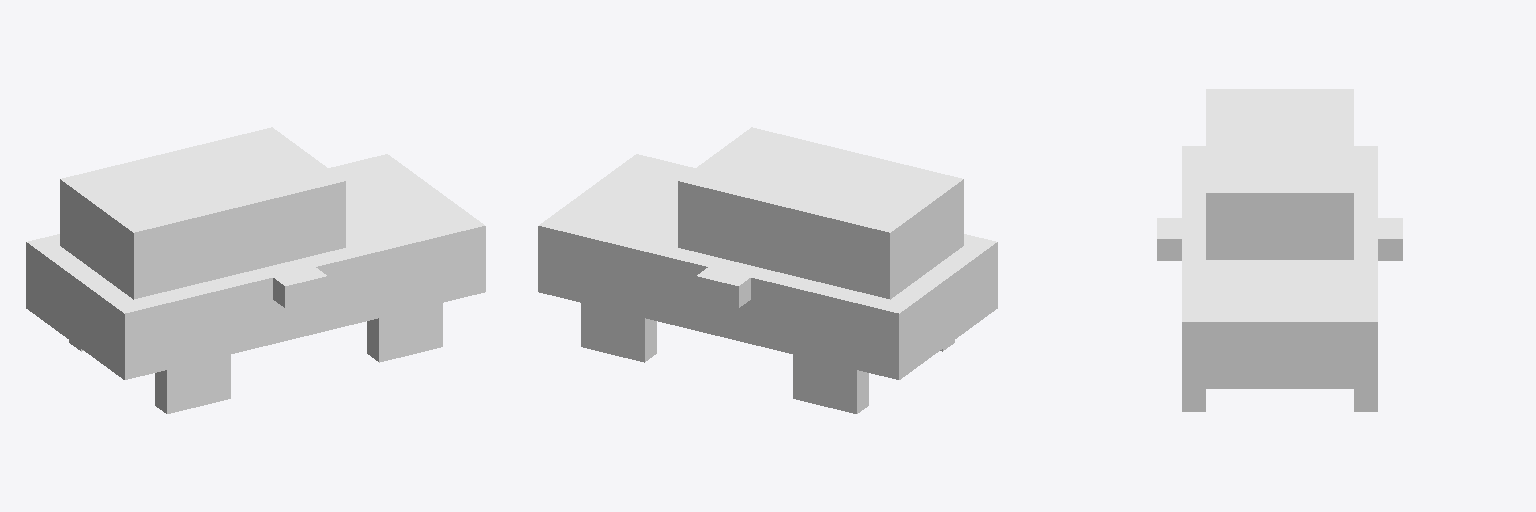
The model's file is car3.obj.
The picture shows the model from 3 angles: view 1: azimuth 30°, elevation 25°; view 2: azimuth 150°, elevation 25°; view 3: azimuth 270°, elevation 25°; orthographic projection.
Parts seen in each view (by area): view 1: object 1; view 2: object 1; view 3: object 1.
Part boxes in pixels (bbox=[...]): object 1: bbox=[26, 127, 485, 413]; object 1: bbox=[538, 127, 997, 413]; object 1: bbox=[1157, 89, 1402, 411].
Bounding box in the file's own units: 1.7 × 0.8 × 1.